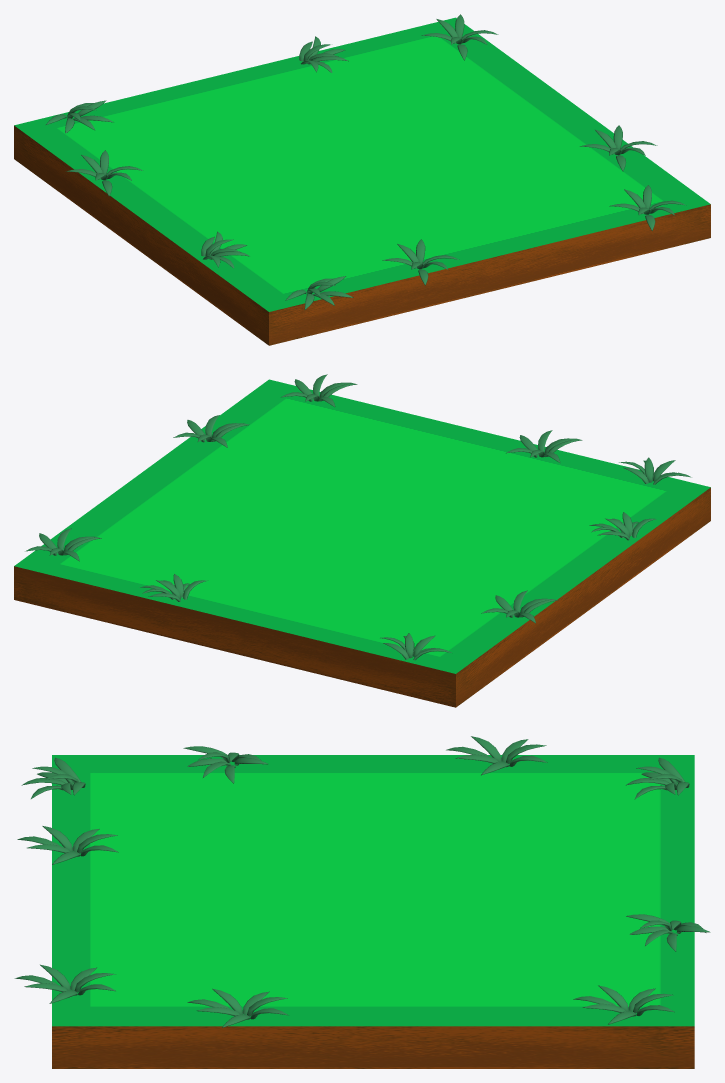
File: grasstile1.2.fbx
3 views of the same model, one above another, from view 1: azimuth 30°, elevation 25°; view 2: azimuth 150°, elevation 25°; view 3: azimuth 270°, elevation 25° (orthographic). The views are drawn at different scales.
Visible parts, largest first — view 1: pCube1, GrassesGRPpolySurface489, GrassesGRPpolySurface494, GrassesGRPpolySurface493, GrassesGRPpolySurface490, GrassesGRPpolySurface482, GrassesGRPpolySurface488, GrassesGRPpolySurface491, GrassesGRPpolySurface492, GrassesGRPpolySurface487; view 2: pCube1, GrassesGRPpolySurface482, GrassesGRPpolySurface493, GrassesGRPpolySurface490, GrassesGRPpolySurface489, GrassesGRPpolySurface494, GrassesGRPpolySurface491, GrassesGRPpolySurface488, GrassesGRPpolySurface487, GrassesGRPpolySurface492; view 3: pCube1, GrassesGRPpolySurface489, GrassesGRPpolySurface494, GrassesGRPpolySurface493, GrassesGRPpolySurface482, GrassesGRPpolySurface490, GrassesGRPpolySurface488, GrassesGRPpolySurface491, GrassesGRPpolySurface487, GrassesGRPpolySurface492.
Boxes of the visible parts, x1=… form: pCube1: x1=14, y1=17, x2=710, y2=345; GrassesGRPpolySurface489: x1=382, y1=239, x2=459, y2=285; GrassesGRPpolySurface494: x1=579, y1=125, x2=657, y2=171; GrassesGRPpolySurface493: x1=421, y1=14, x2=498, y2=60; GrassesGRPpolySurface490: x1=66, y1=150, x2=142, y2=196; GrassesGRPpolySurface482: x1=609, y1=185, x2=686, y2=230; GrassesGRPpolySurface488: x1=201, y1=231, x2=249, y2=268; GrassesGRPpolySurface491: x1=299, y1=36, x2=348, y2=72; GrassesGRPpolySurface492: x1=46, y1=100, x2=113, y2=133; GrassesGRPpolySurface487: x1=285, y1=276, x2=353, y2=309; pCube1: x1=14, y1=379, x2=710, y2=707; GrassesGRPpolySurface482: x1=281, y1=374, x2=357, y2=406; GrassesGRPpolySurface493: x1=25, y1=528, x2=101, y2=561; GrassesGRPpolySurface490: x1=481, y1=590, x2=558, y2=623; GrassesGRPpolySurface489: x1=506, y1=430, x2=582, y2=462; GrassesGRPpolySurface494: x1=173, y1=415, x2=249, y2=447; GrassesGRPpolySurface491: x1=139, y1=574, x2=207, y2=601; GrassesGRPpolySurface488: x1=589, y1=512, x2=656, y2=540; GrassesGRPpolySurface487: x1=619, y1=457, x2=691, y2=484; GrassesGRPpolySurface492: x1=380, y1=633, x2=451, y2=660; pCube1: x1=52, y1=755, x2=694, y2=1068; GrassesGRPpolySurface489: x1=17, y1=826, x2=118, y2=864; GrassesGRPpolySurface494: x1=187, y1=988, x2=288, y2=1027; GrassesGRPpolySurface493: x1=573, y1=985, x2=674, y2=1024; GrassesGRPpolySurface482: x1=14, y1=964, x2=115, y2=1003; GrassesGRPpolySurface490: x1=446, y1=736, x2=547, y2=775; GrassesGRPpolySurface488: x1=183, y1=746, x2=267, y2=783; GrassesGRPpolySurface491: x1=626, y1=914, x2=710, y2=951; GrassesGRPpolySurface487: x1=21, y1=757, x2=85, y2=798; GrassesGRPpolySurface492: x1=625, y1=757, x2=689, y2=799.
Size of the model in its own units: 1.05 by 0.0991 by 1.07.
4 materials, 3 textured.
